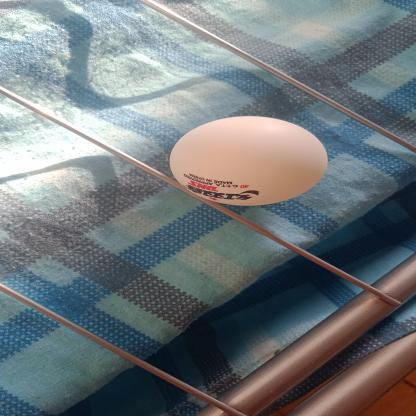Tabel Tennis: (164, 112, 334, 210)
